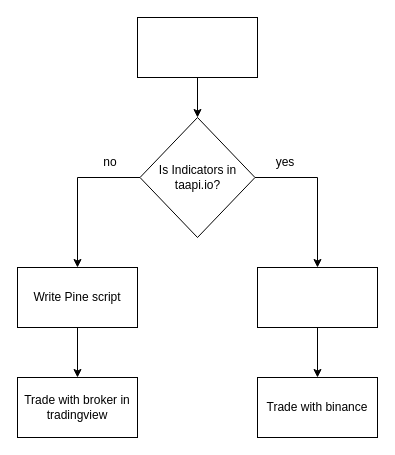
The diagram is 395 pixels wide and 455 high, and some of its shapes have lost their labels. Here are the shapes that lost their labels. From the top down, the centre of each, then its label:
At point 197,47: "Find Strategy".
At point 317,297: "Describe the Strategy in own Bot".
